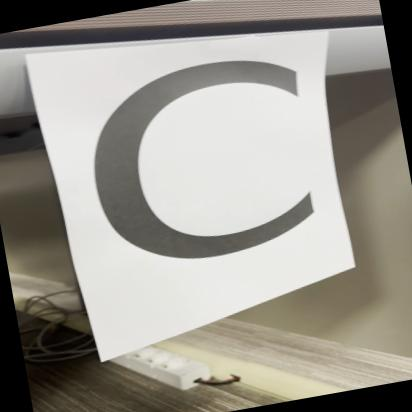seat: (40, 26, 351, 314)
